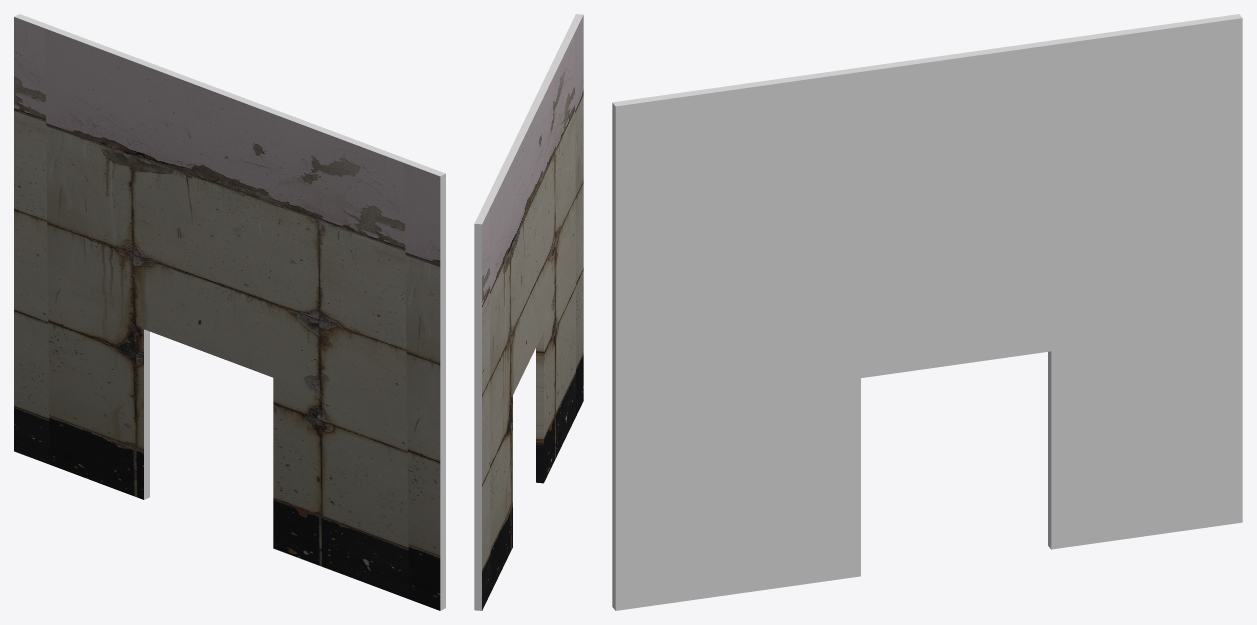
Rendered from pared_ascensor.fbx.
The picture shows the model from 3 angles, left to right: view 1: azimuth 30°, elevation 25°; view 2: azimuth 150°, elevation 25°; view 3: azimuth 270°, elevation 25°; orthographic projection. The views are drawn at different scales.
Visible parts, largest first — view 1: Pared.003; view 2: Pared.003; view 3: Pared.003.
Part boxes in pixels (x1,y1,x2,y2): Pared.003: (14,14,445,610); Pared.003: (474,14,583,610); Pared.003: (612,14,1242,610).
Bounding box in the file's own units: 340 × 864 × 978.
Materials: 2 (1 with a texture image).
